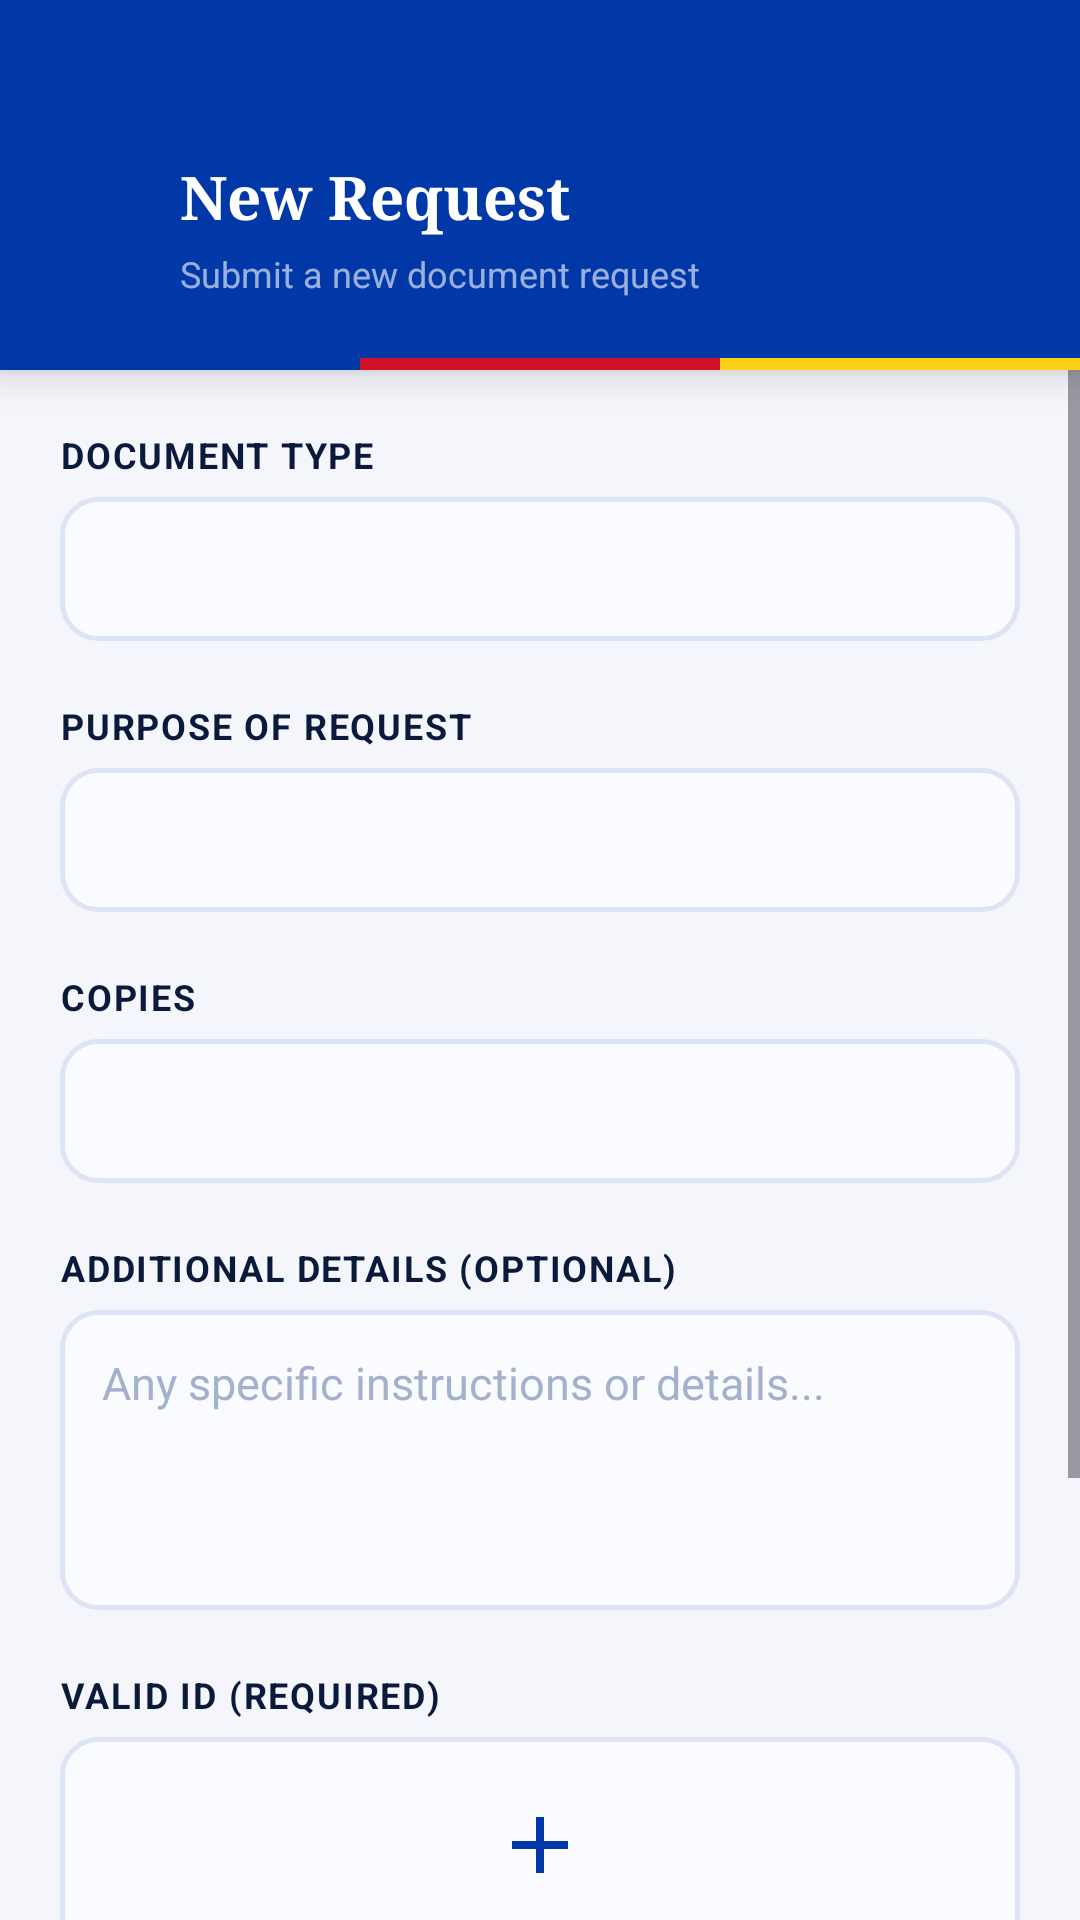

Where icons sit on this 1080x1920 app screen, as (x1, y1, x2, y2):
add: (512, 1817, 568, 1873)
